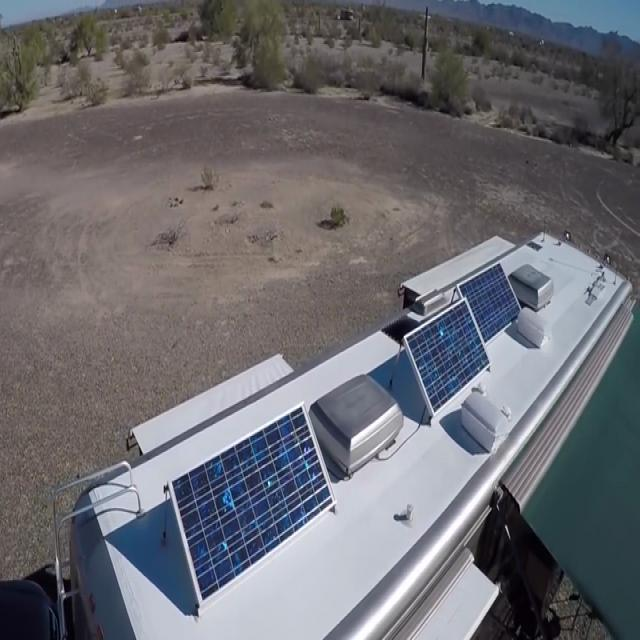Normal Solar Panel: (171, 406, 336, 605), (405, 297, 492, 416), (459, 262, 522, 341)
